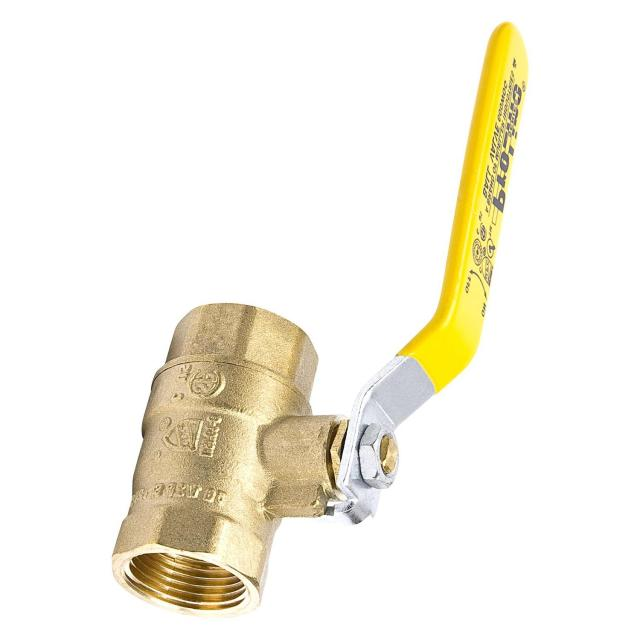opened_valve: (104, 21, 532, 622)
